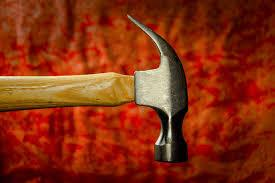hammer: (0, 11, 190, 164)
